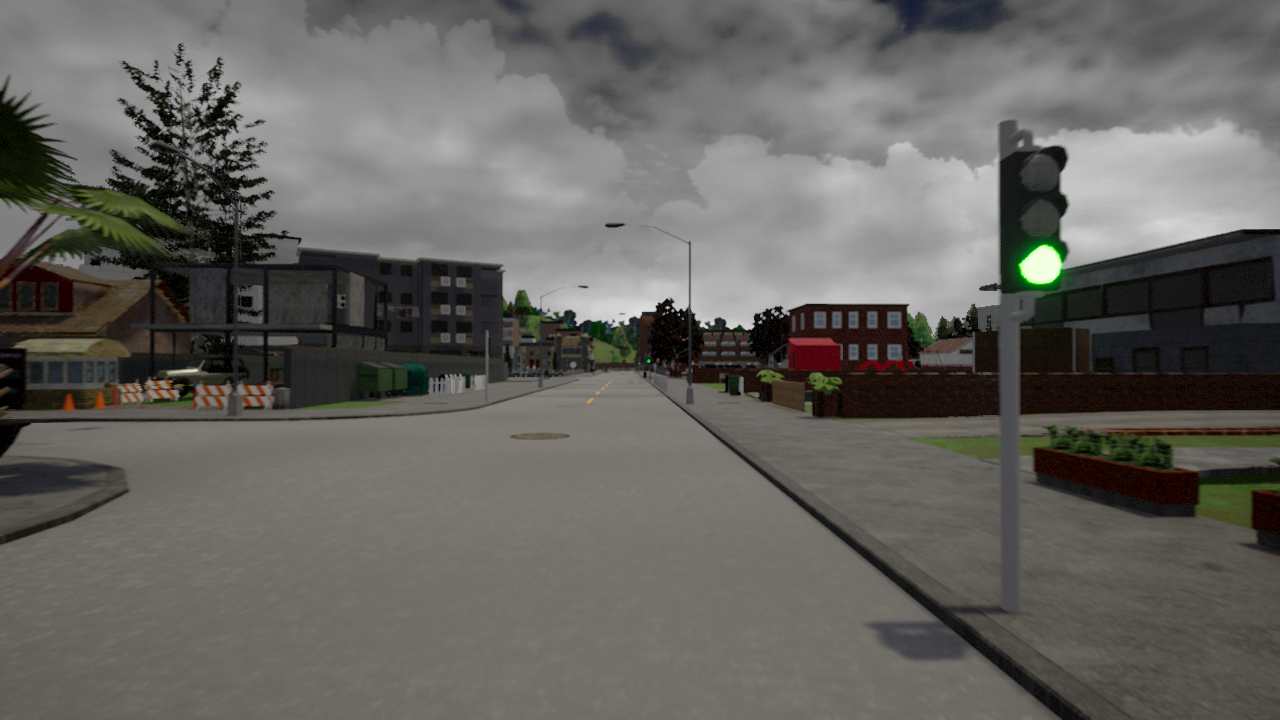green: (996, 143, 1070, 289)
